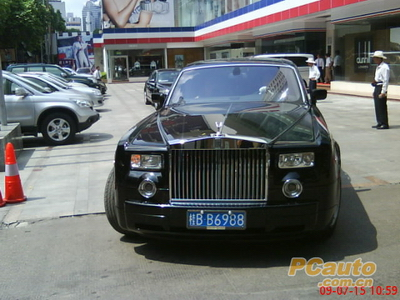plate_number: (186, 210, 248, 228)
